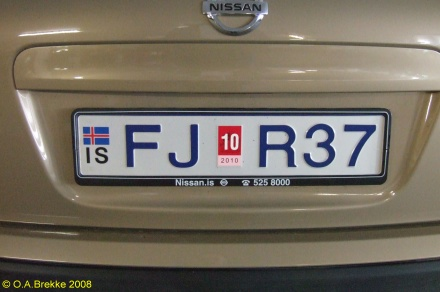license plate: (69, 107, 389, 188)
